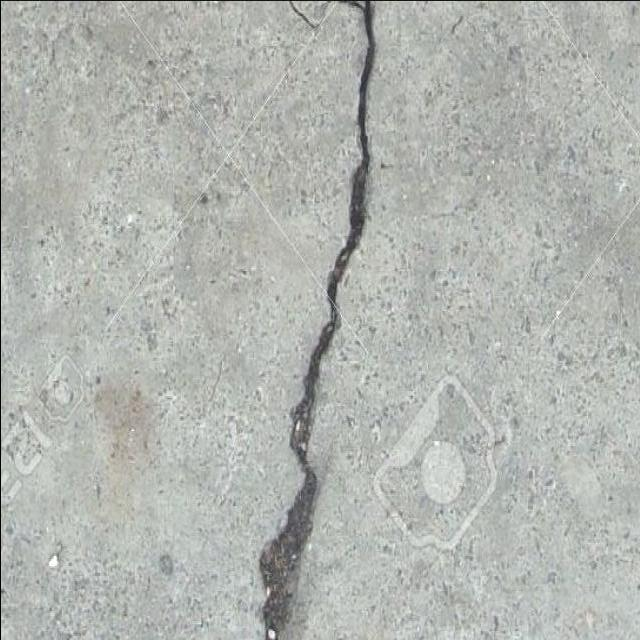Crack: (253, 0, 378, 639)
